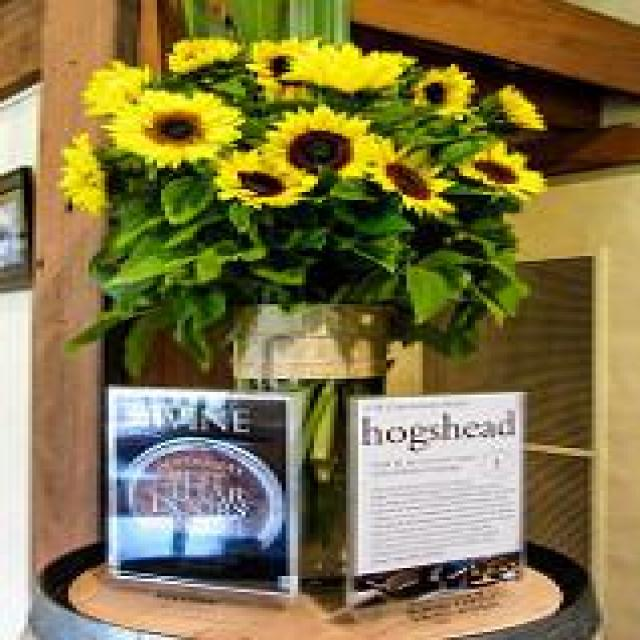sunflower: (114, 92, 243, 164), (270, 110, 370, 182), (371, 139, 455, 217), (210, 145, 306, 212), (456, 138, 552, 204), (52, 133, 116, 221), (409, 62, 481, 120), (164, 35, 241, 78), (490, 84, 551, 134)
